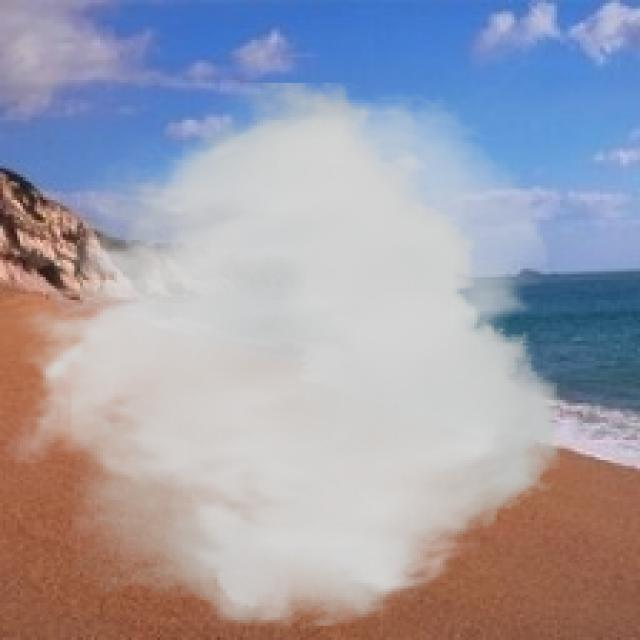Smoke: (3, 82, 560, 634)
